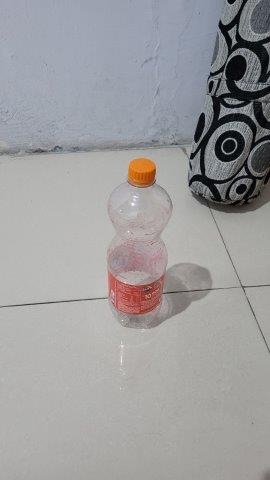botolplastik: (105, 158, 175, 329)
